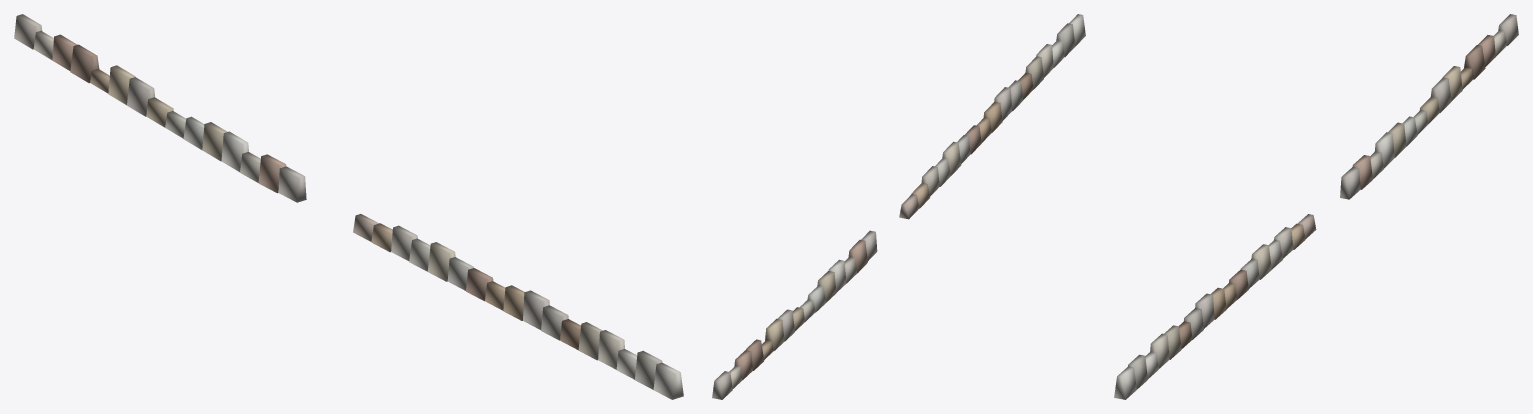
File: farm_10_22_collision.glb
3 views of the same model, side by side, from view 1: azimuth 30°, elevation 25°; view 2: azimuth 150°, elevation 25°; view 3: azimuth 330°, elevation 25° (orthographic). The views are drawn at different scales.
Visible parts, largest first — view 1: geometry_0; view 2: geometry_0; view 3: geometry_0.
Boxes of the visible parts, bbox=[...] form: geometry_0: bbox=[14, 14, 683, 399]; geometry_0: bbox=[712, 14, 1085, 399]; geometry_0: bbox=[1114, 14, 1518, 399].
Bounding box in the file's own units: 6.88 × 2.62 × 55.51.
